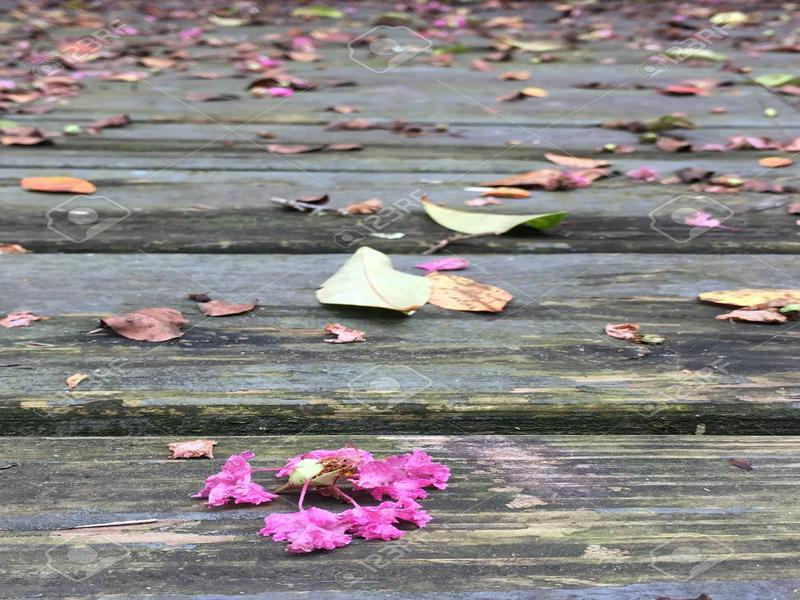flowers: (195, 434, 478, 567), (217, 37, 321, 105)
leaf: (310, 241, 440, 321), (412, 188, 562, 239), (422, 266, 517, 321), (93, 299, 188, 347), (195, 290, 267, 324)
